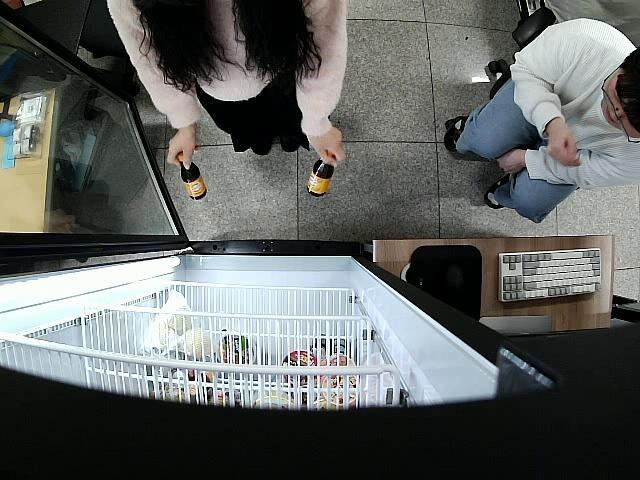17_vita500: (174, 151, 208, 202), (304, 148, 334, 198)
